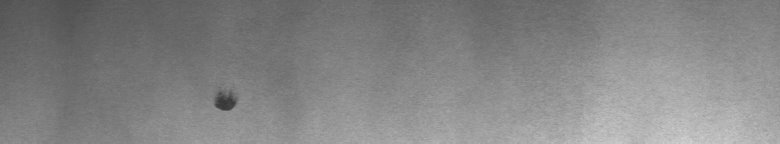fi: (207, 84, 244, 116)
